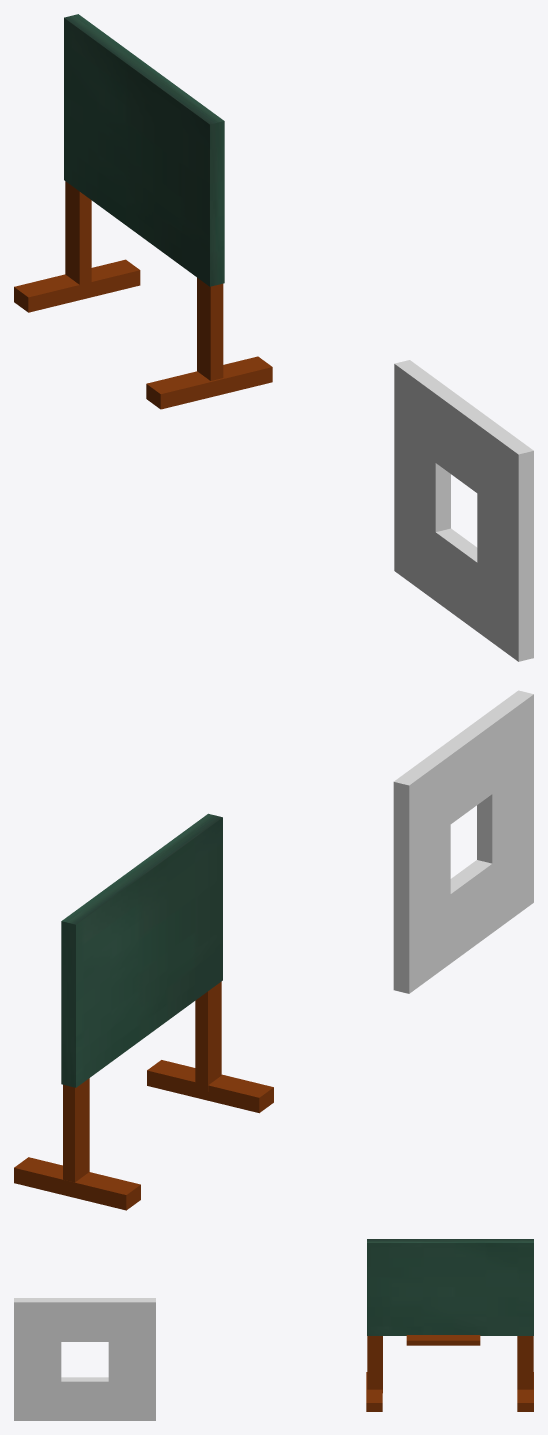
Rendered from desktest.fbx.
The picture shows the model from 3 angles, top to bottom: view 1: azimuth 30°, elevation 25°; view 2: azimuth 150°, elevation 25°; view 3: azimuth 270°, elevation 25°; orthographic projection. The views are drawn at different scales.
Visible parts, largest first — view 1: Cube.001, Cube; view 2: Cube.001, Cube; view 3: Cube.001, Cube.
Part boxes in pixels (x1=…): Cube.001: x1=14, y1=14, x2=272, y2=409; Cube: x1=394, y1=360, x2=533, y2=661; Cube.001: x1=14, y1=813, x2=273, y2=1210; Cube: x1=393, y1=690, x2=533, y2=993; Cube.001: x1=366, y1=1239, x2=533, y2=1411; Cube: x1=14, y1=1298, x2=155, y2=1420.
Size of the model in its own units: 359 by 954 by 2530.
